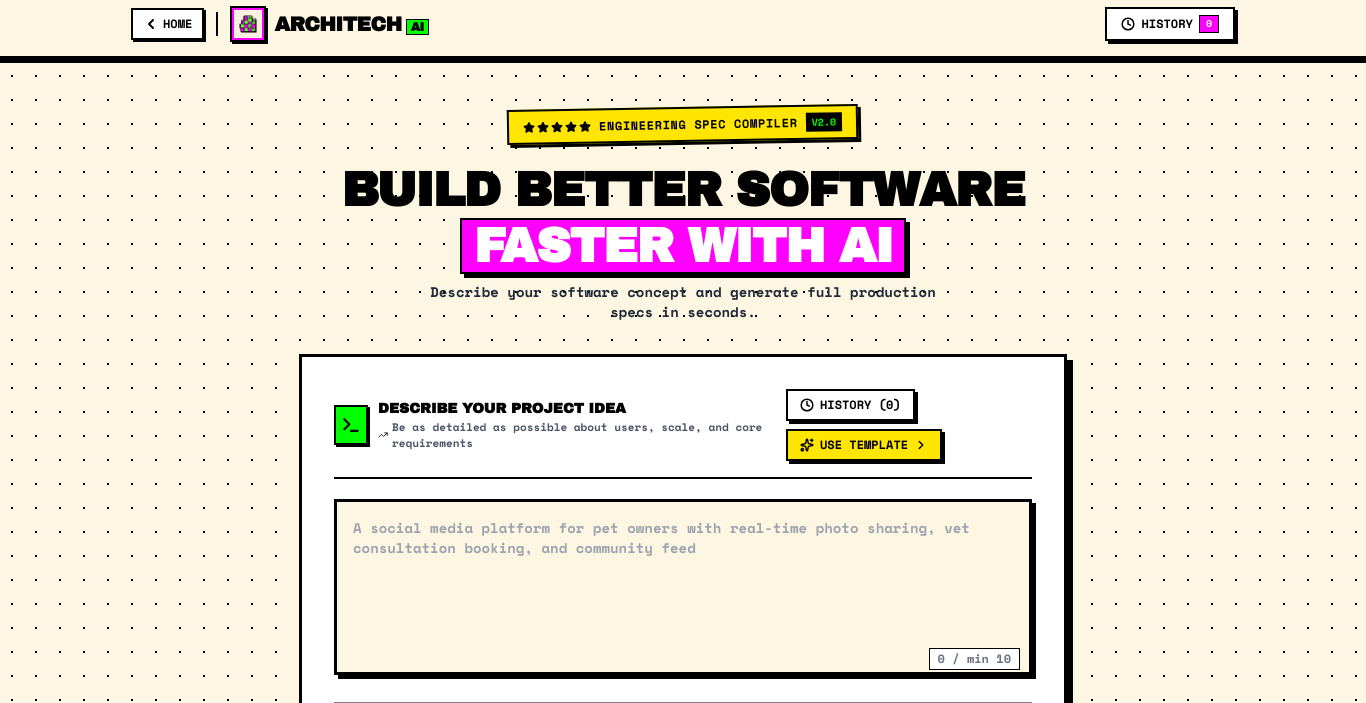
Home Page - Project Idea Input › Error Handling › should display validation error from backend
The image size is (1366, 703).
Replace the text in the text box with placeholder "social media platform" with "A valid project idea with enough characters" at x=683, y=587, box [334, 499, 1032, 675]
(page scrolled)
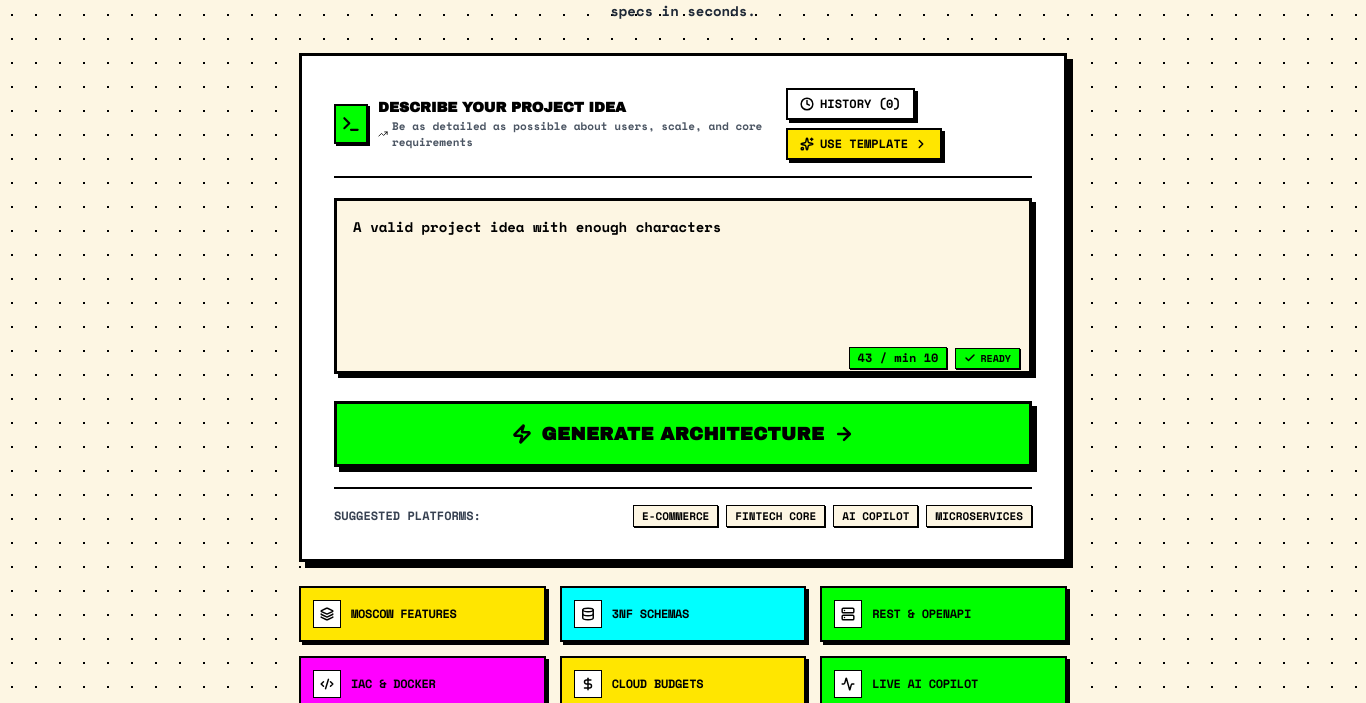
Click the button "GENERATE ARCHITECTURE" at x=683, y=434, box [334, 401, 1032, 467]
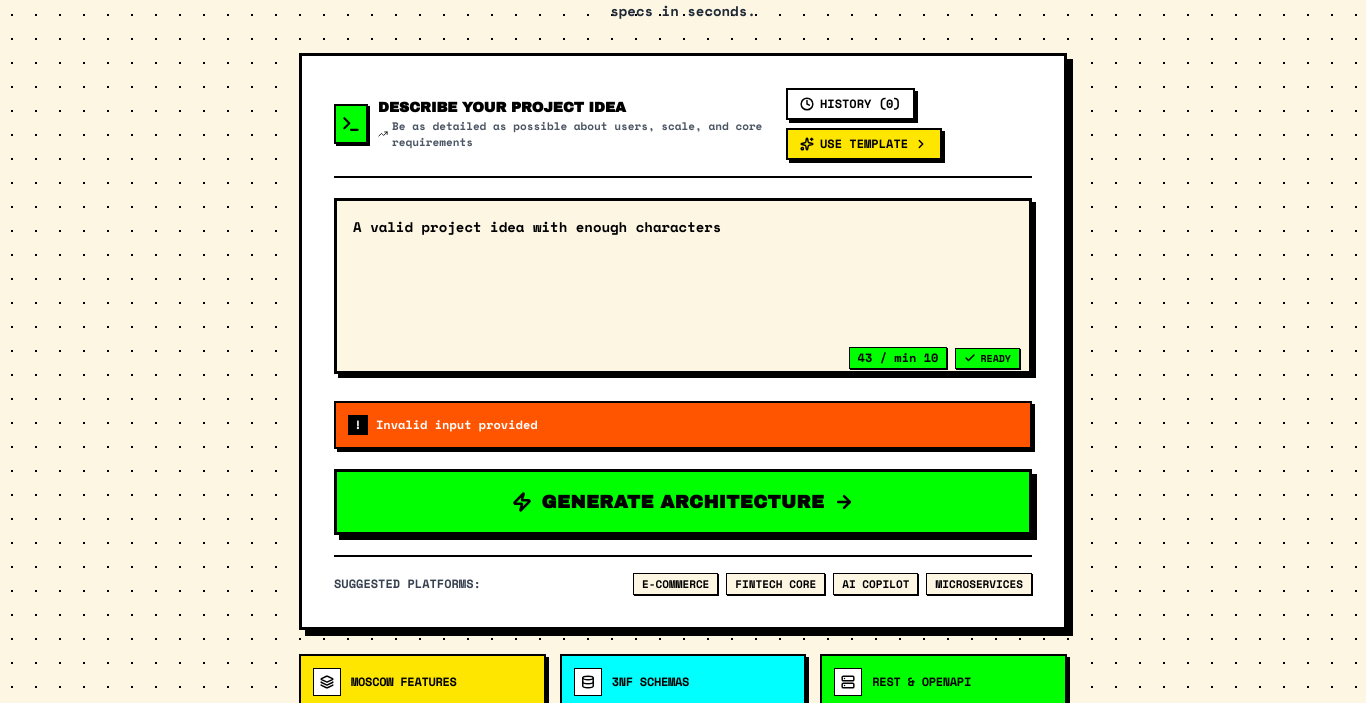
Now the text "! Invalid input provided" is shown, box [334, 401, 1032, 449]
